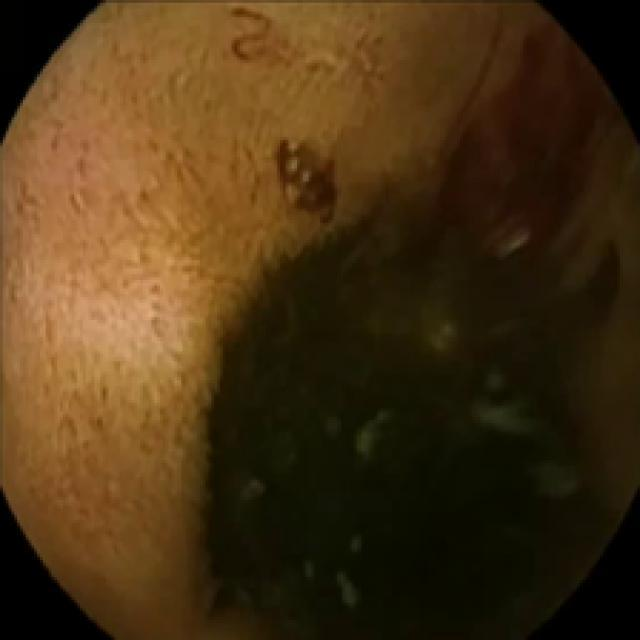bleeding: (443, 32, 620, 255), (271, 136, 352, 230), (222, 0, 292, 60)
